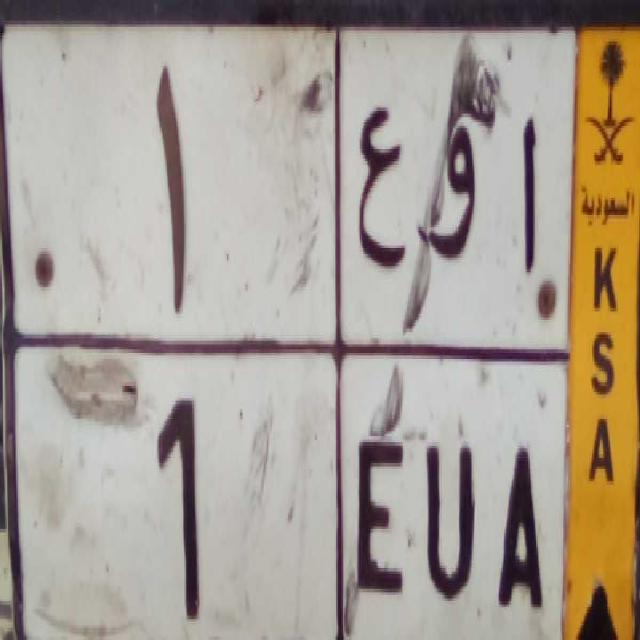license_plate: (11, 334, 562, 640)
